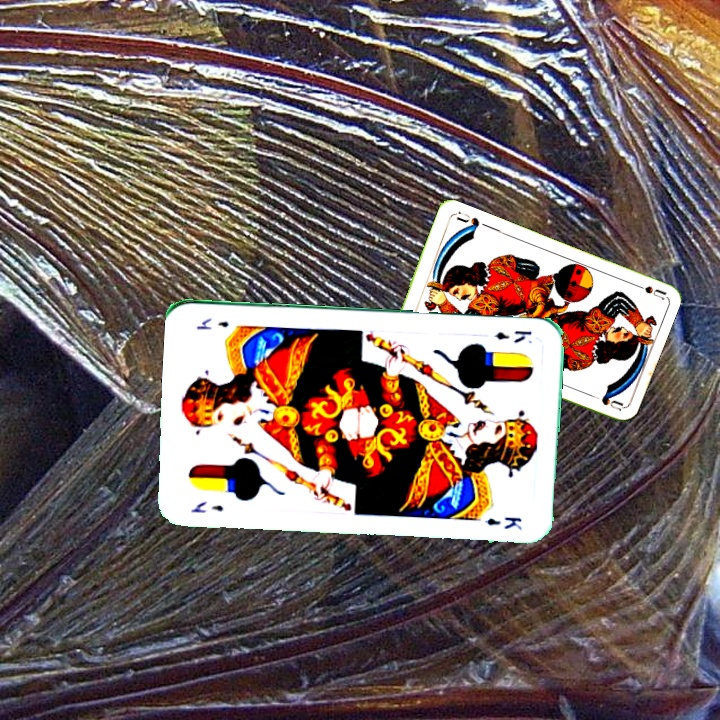EK: (491, 326, 535, 346), (187, 497, 226, 515)
SU: (627, 278, 668, 302)
